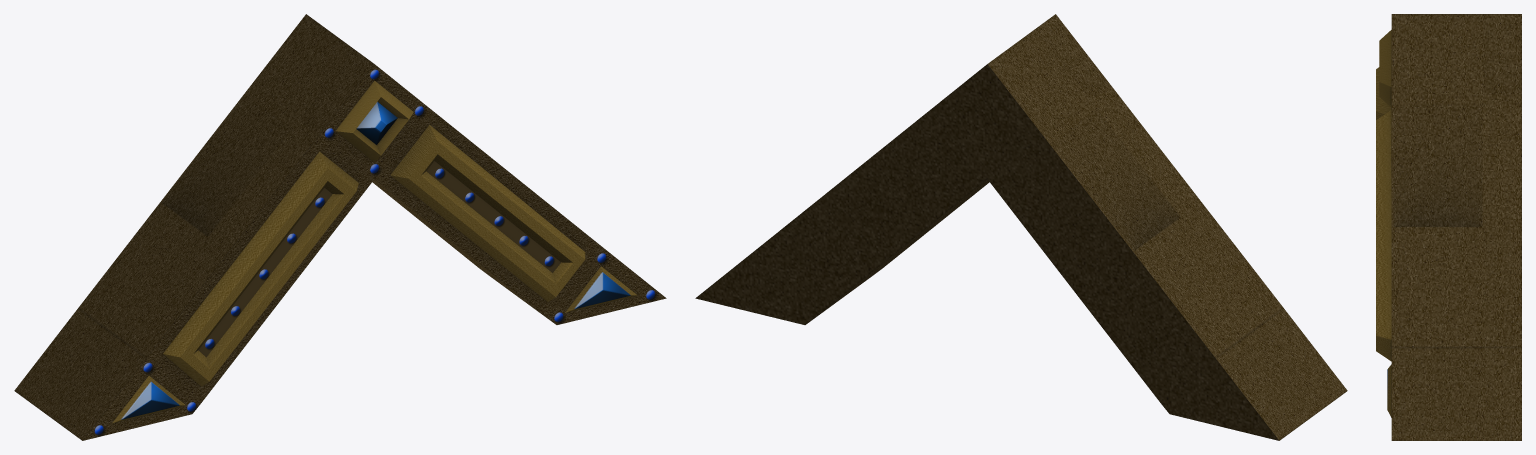
Rendered from angle.FBX.
3 views of the same model, side by side, from view 1: azimuth 30°, elevation 25°; view 2: azimuth 150°, elevation 25°; view 3: azimuth 270°, elevation 25° (orthographic). The views are drawn at different scales.
Parts seen in each view (by area): view 1: angle; view 2: angle; view 3: angle.
Part boxes in pixels (box(x1,y1,x2,y2)): angle: box(14, 14, 666, 440); angle: box(695, 14, 1347, 440); angle: box(1376, 14, 1521, 440).
Size of the model in its own units: 194 by 97.06 by 44.04.
